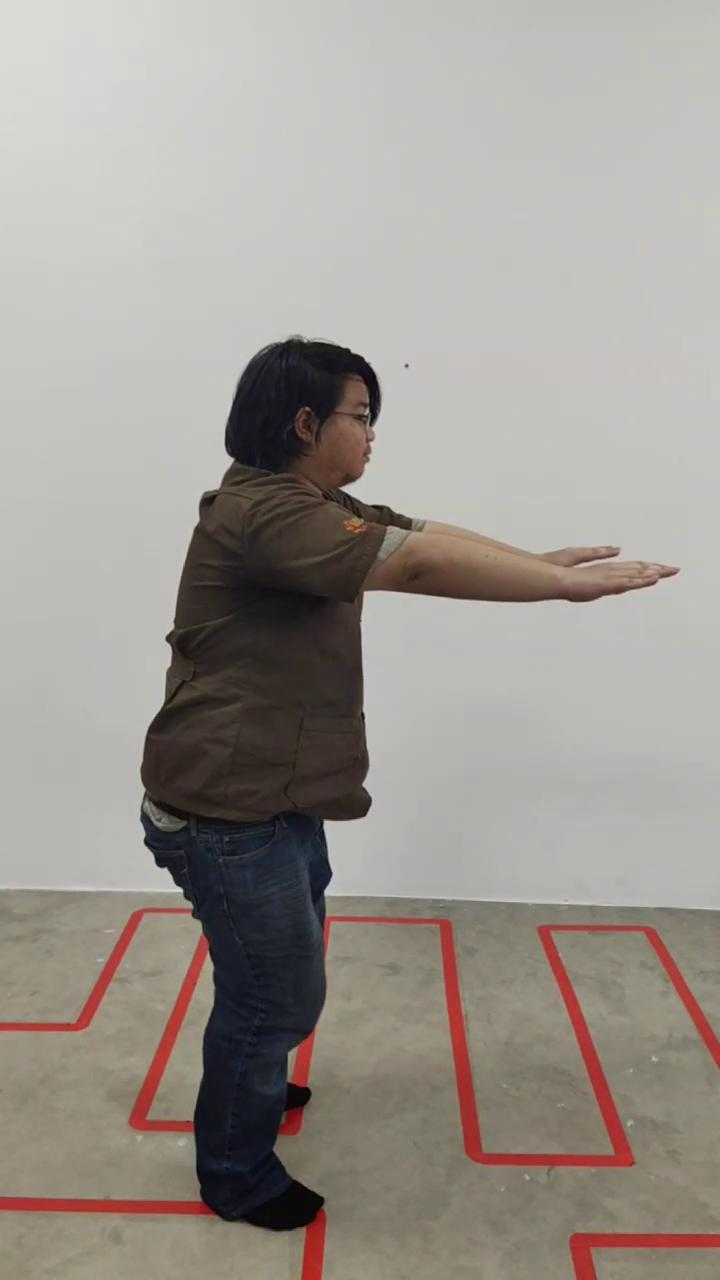squat up: (141, 336, 666, 1241)
